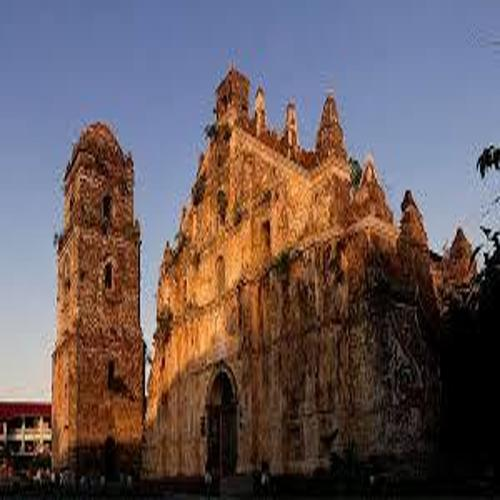Paoay Church: (35, 75, 448, 470)
